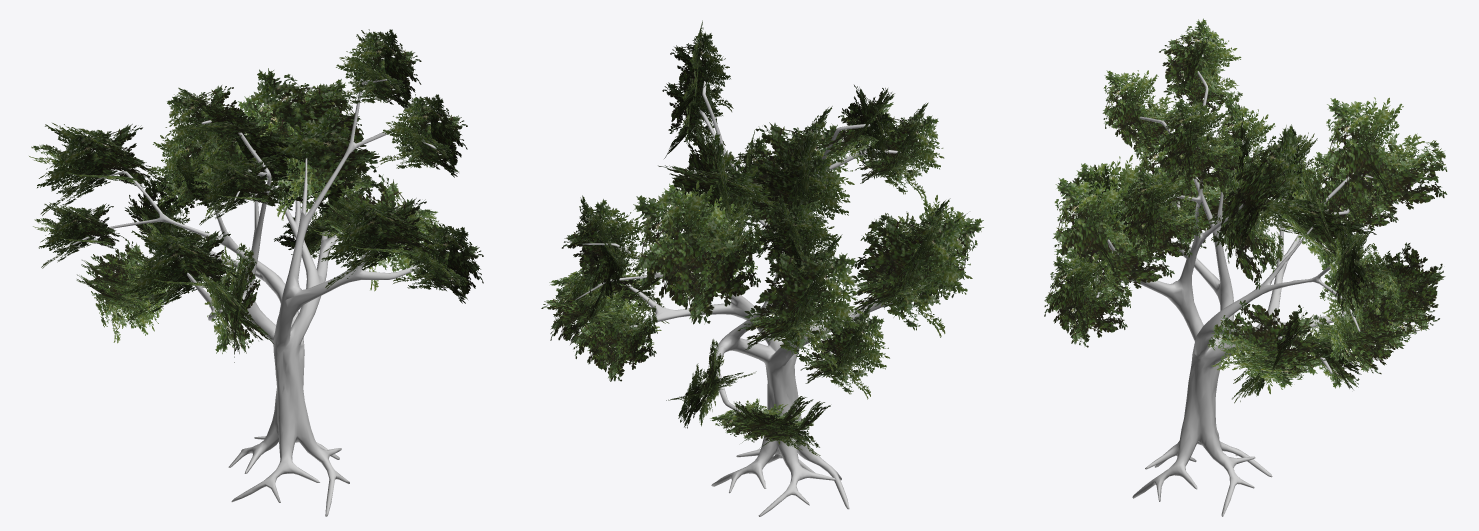
The model's file is Tree_Variant01.fbx.
The picture shows the model from 3 angles, left to right: view 1: azimuth 30°, elevation 25°; view 2: azimuth 150°, elevation 25°; view 3: azimuth 270°, elevation 25°; orthographic projection. The views are drawn at different scales.
Parts seen in each view (by area): view 1: Tree_Varaint01_LOD0; view 2: Tree_Varaint01_LOD0; view 3: Tree_Varaint01_LOD0.
Boxes of the visible parts, x1,y1,x2,y2 form: Tree_Varaint01_LOD0: (29,29,483,516); Tree_Varaint01_LOD0: (541,20,983,516); Tree_Varaint01_LOD0: (1044,18,1447,516).
Size of what is drawn, in the model's own units: 314 by 358 by 313.
